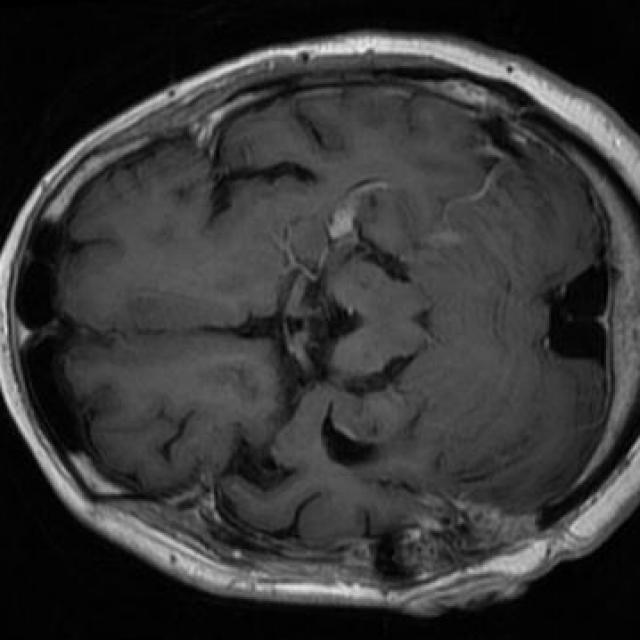glioma: (394, 494, 538, 581)
